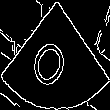O_NE: (31, 21, 79, 89)
